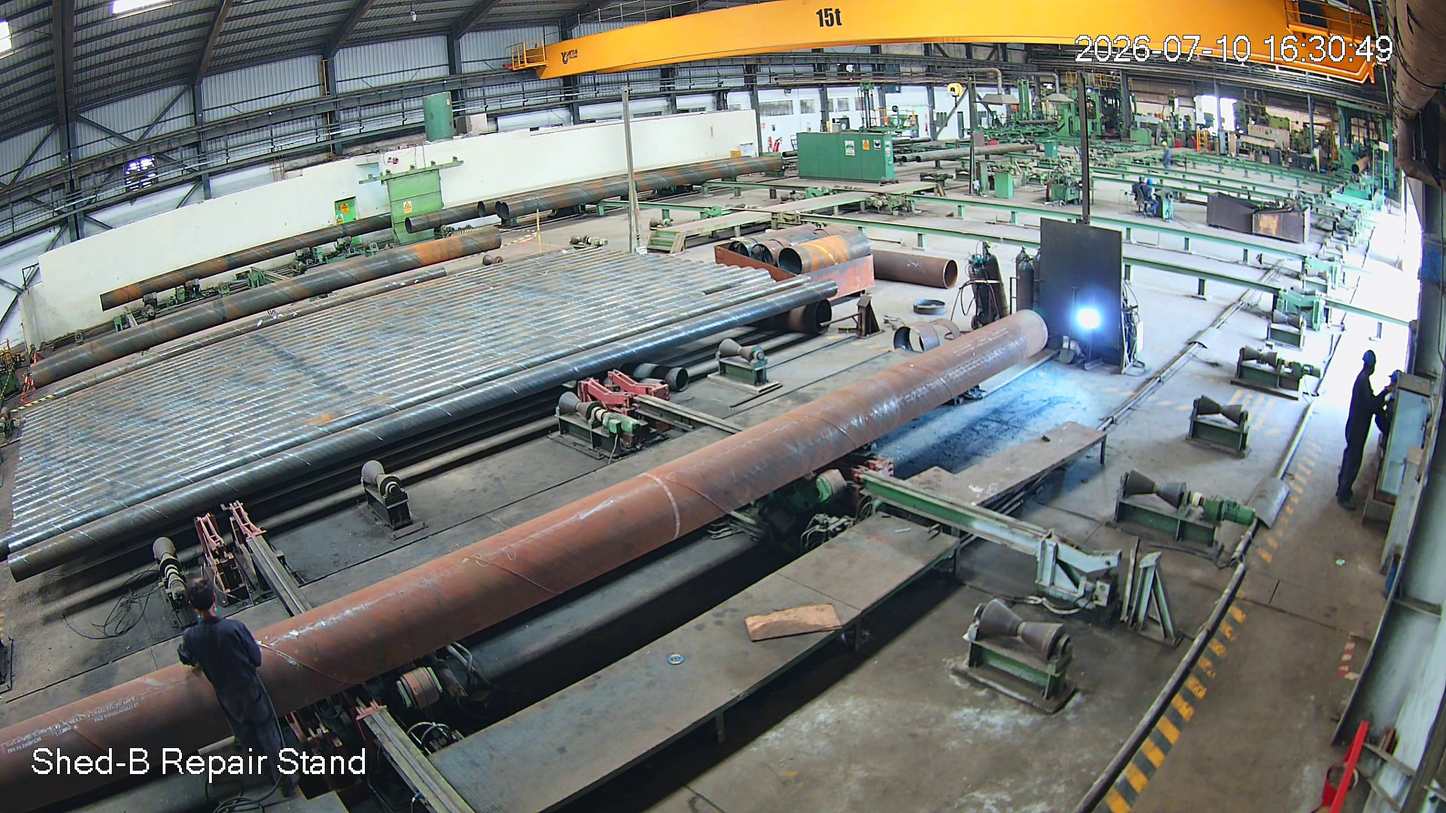Helmet: (1358, 345, 1383, 384)
Person: (179, 575, 311, 801), (1333, 349, 1392, 514)
